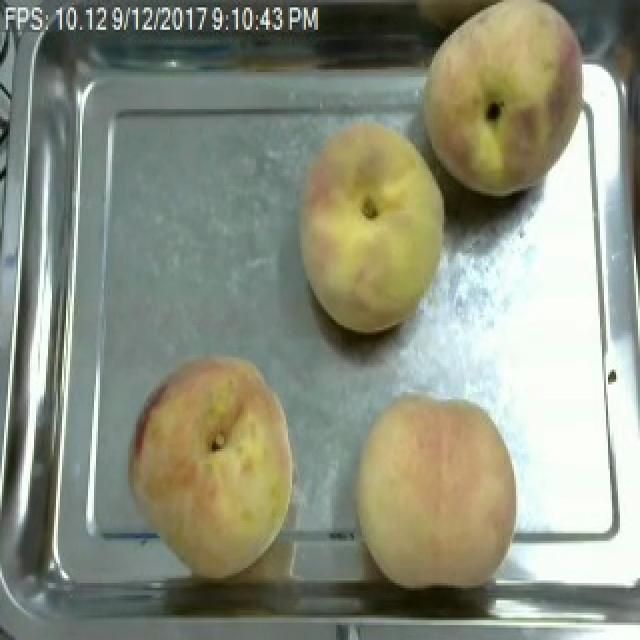Fruit: (118, 345, 306, 585), (410, 0, 606, 211), (342, 384, 528, 603), (288, 112, 458, 342)
